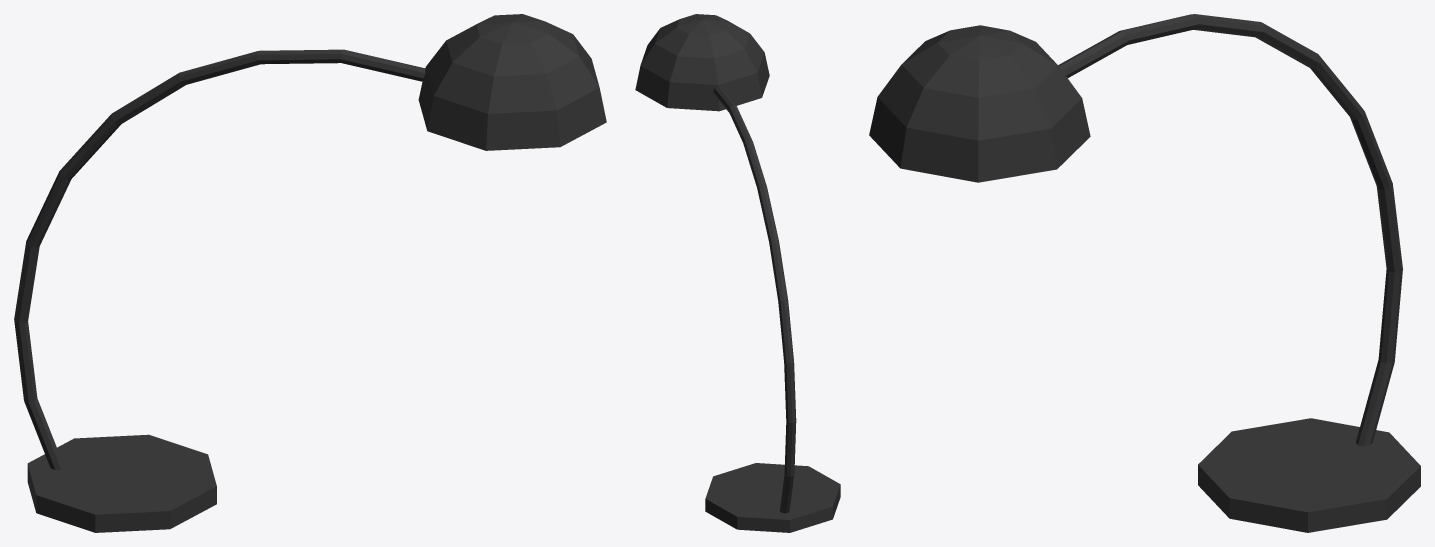
The model's file is Lampe_Sort.fbx.
3 renders of one model, left to right at view 1: azimuth 30°, elevation 25°; view 2: azimuth 150°, elevation 25°; view 3: azimuth 270°, elevation 25°, orthographic. The views are drawn at different scales.
Visible parts, largest first — view 1: Cylinder.008; view 2: Cylinder.008; view 3: Cylinder.008.
Part boxes in pixels (box(x1,y1,x2,y2)): Cylinder.008: box(14, 14, 606, 532); Cylinder.008: box(635, 14, 840, 532); Cylinder.008: box(869, 14, 1420, 532).
Bounding box in the file's own units: 78.32 × 93.29 × 79.66.
